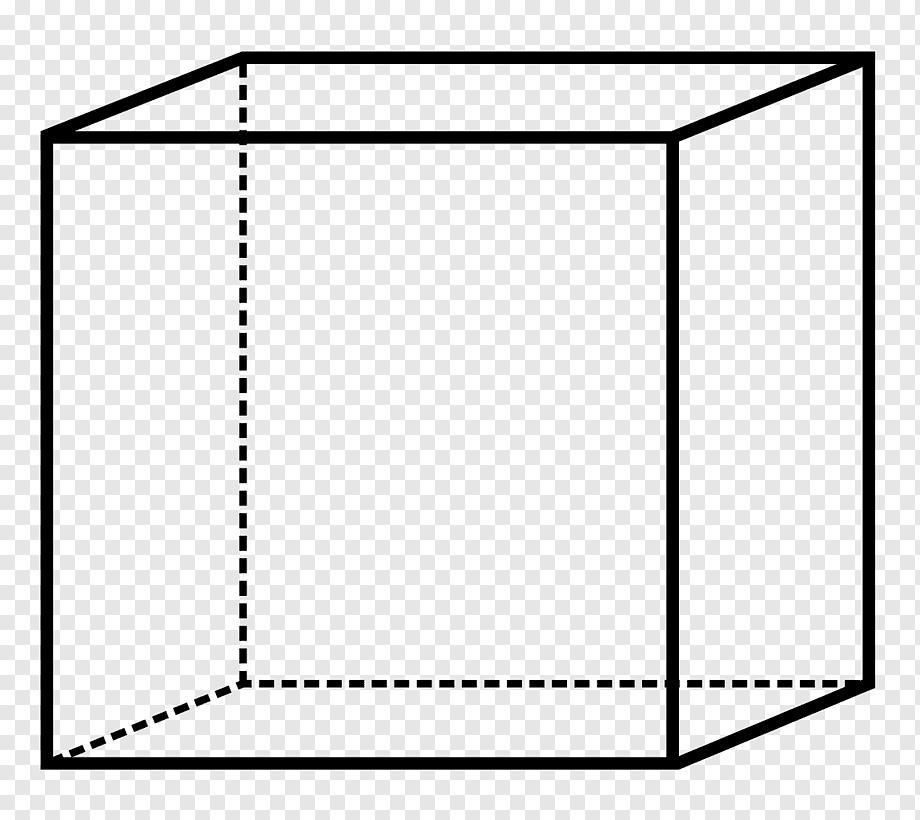cubos: (20, 32, 890, 796)
